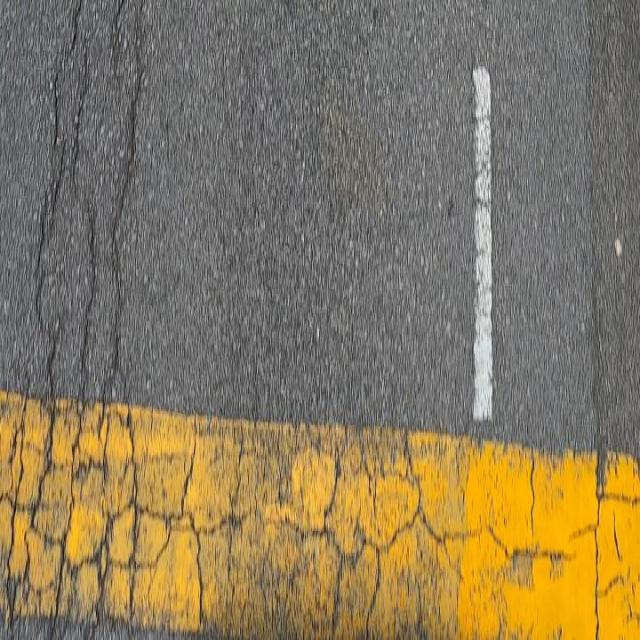cracks: (6, 0, 180, 640)
